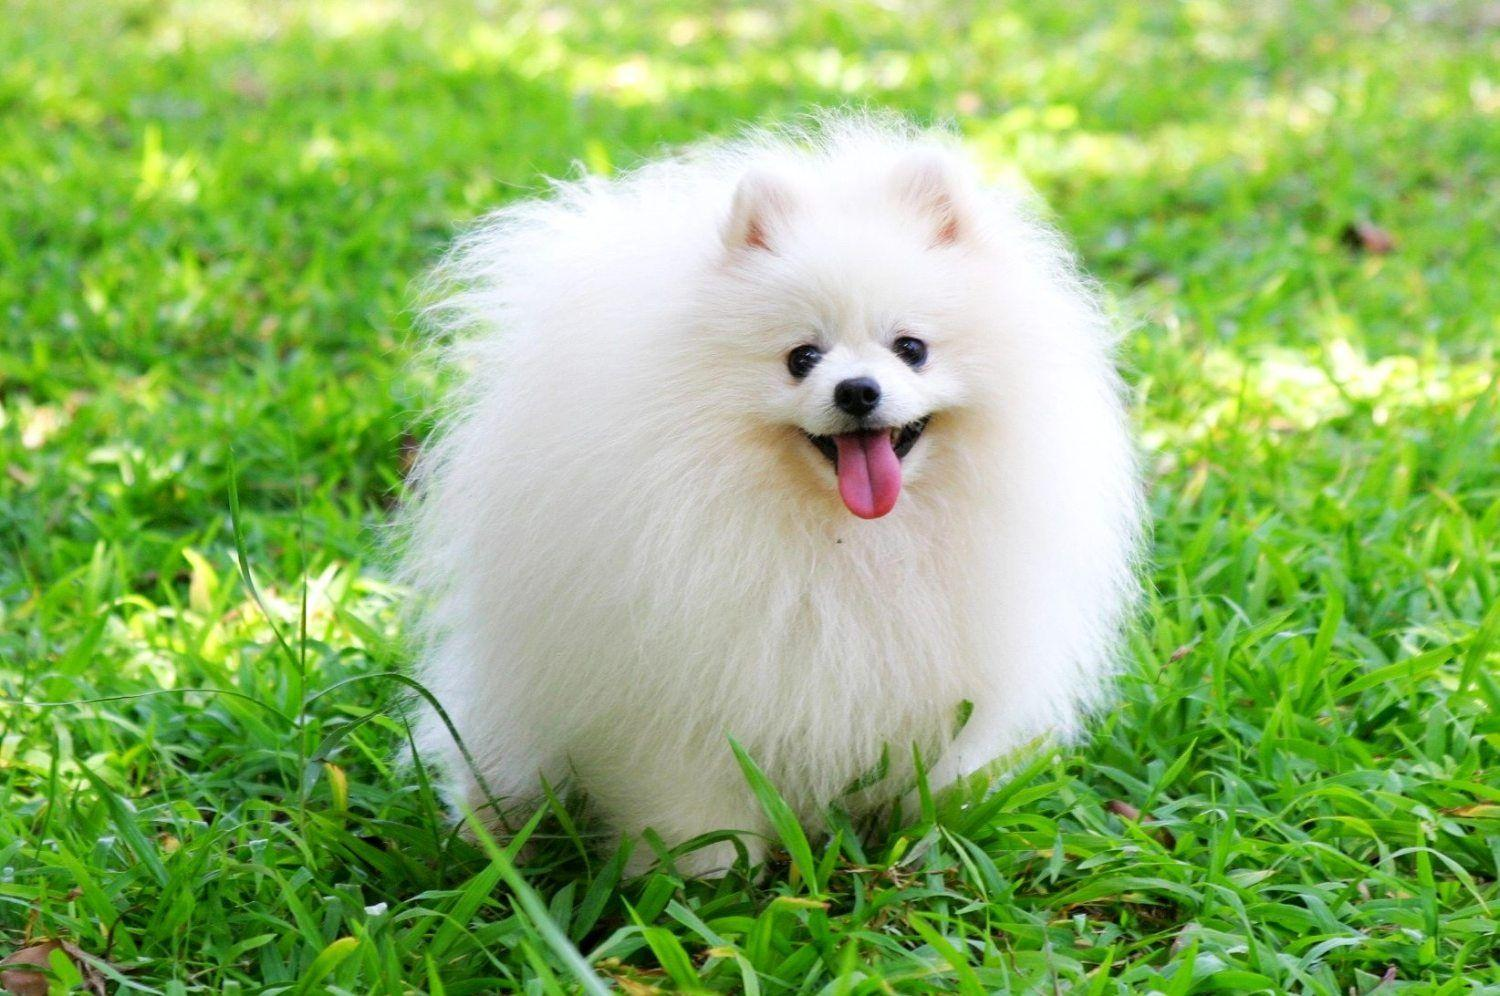dog: (397, 103, 1146, 888)
pomeranian: (396, 101, 1144, 886)
